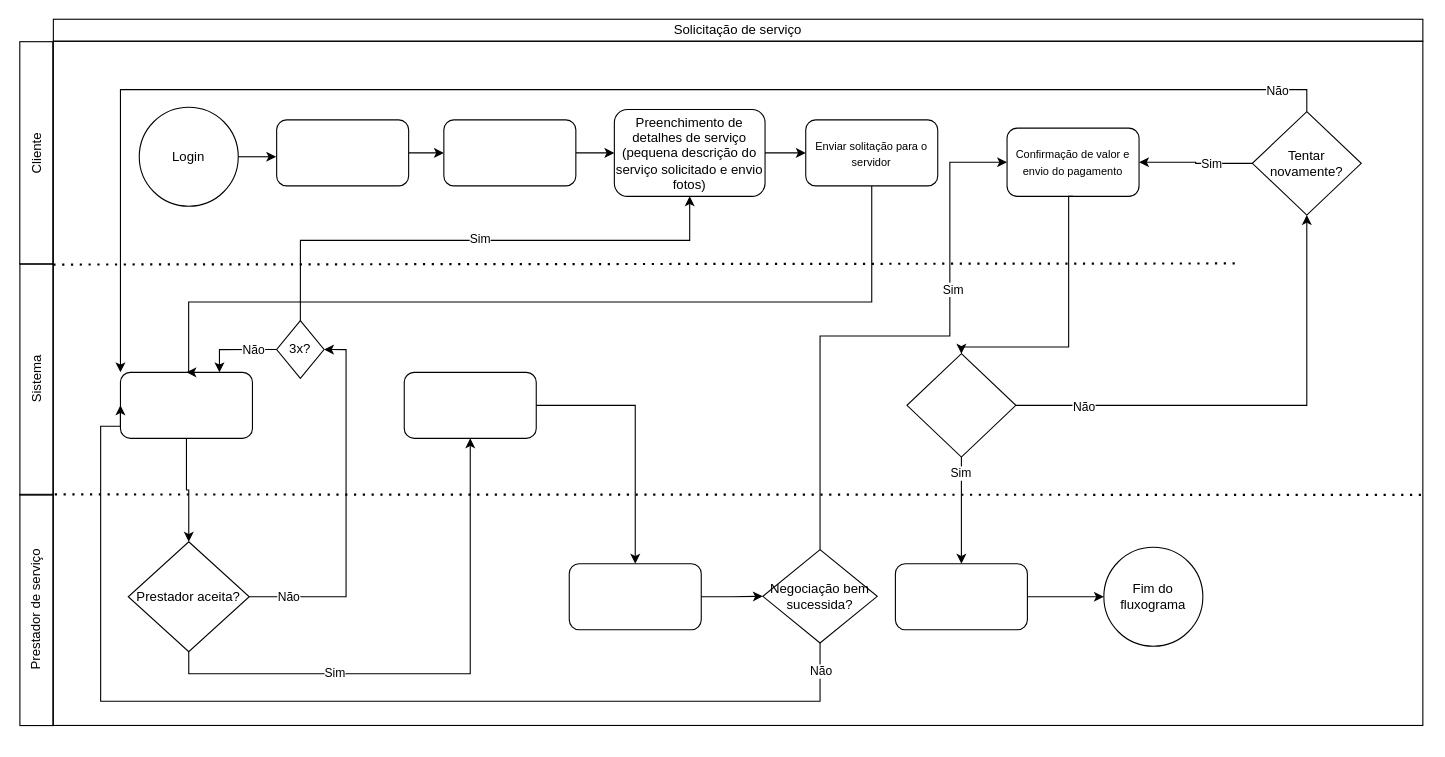
The diagram is 1445 pixels wide and 757 high, and some of its shapes have lost their labels. The box of each missing label's shape, as (x1, y1, x2, y2) in pixels:
Confirmação de pagamento?: (906, 353, 1016, 457)
Enviar o serviço para os prestadpres mais próximos: (119, 371, 252, 438)
Inicia o chat entre o prestador e o cliente: (403, 371, 536, 438)
Inicio do fluxogram de prestação de serviços: (894, 563, 1027, 630)
Negociação de valores de serviço a ser prestado: (568, 563, 701, 630)
Selação de nível (Iniciante, indermediário e profissional): (443, 119, 576, 186)
Seleção do serviço: (276, 119, 409, 186)
